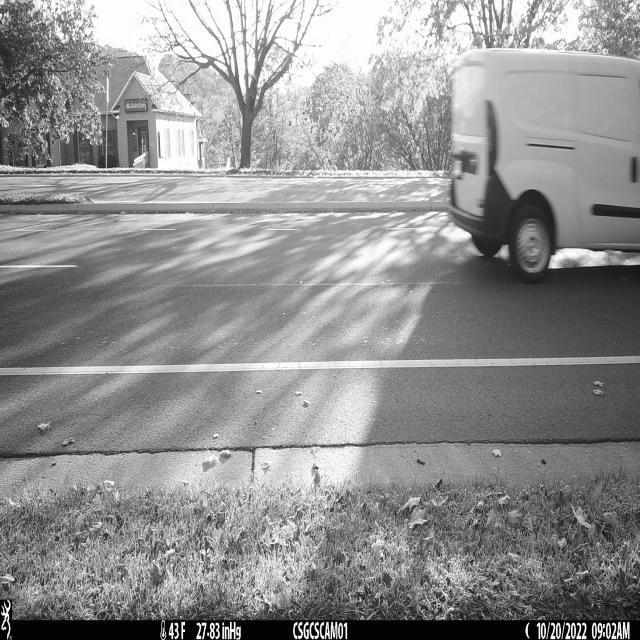Van: (446, 48, 640, 283)
